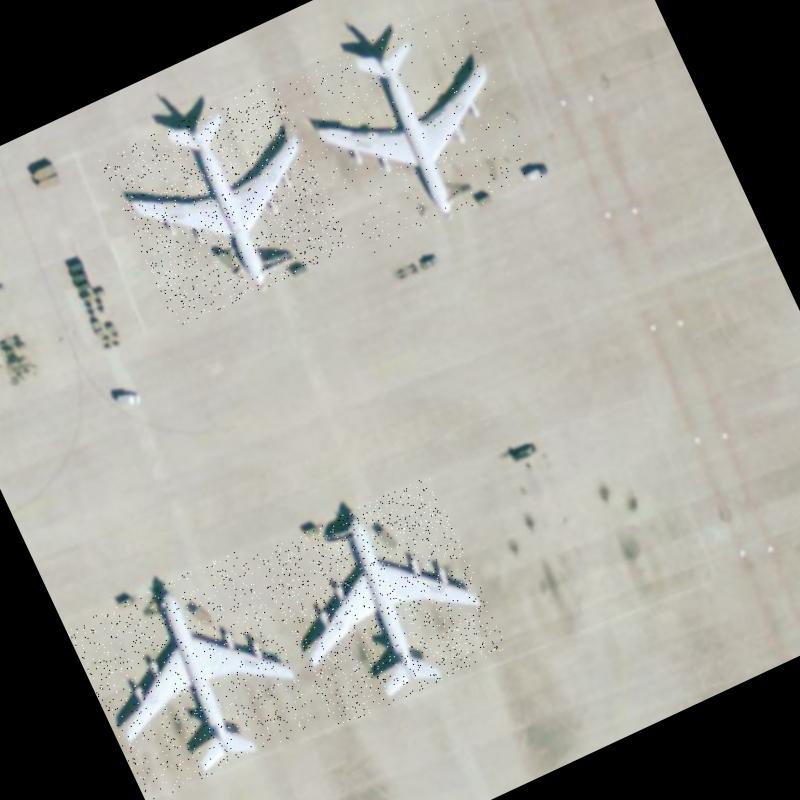A11: (285, 0, 542, 256), (252, 474, 509, 730), (66, 547, 322, 800), (98, 77, 353, 328)
